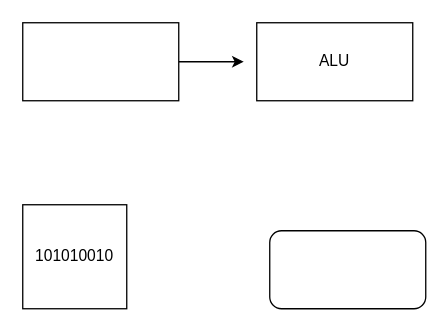
This 448x332 diagram has some shape labels left out. Each missing label, with the box of its shape:
Decode: (21, 21, 179, 101)
Store: (268, 229, 426, 309)
